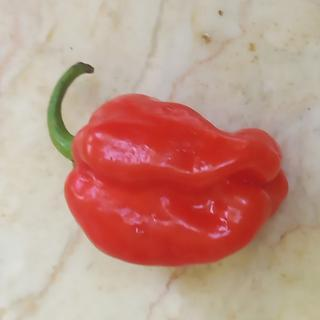Grade-A: (55, 85, 290, 270)
